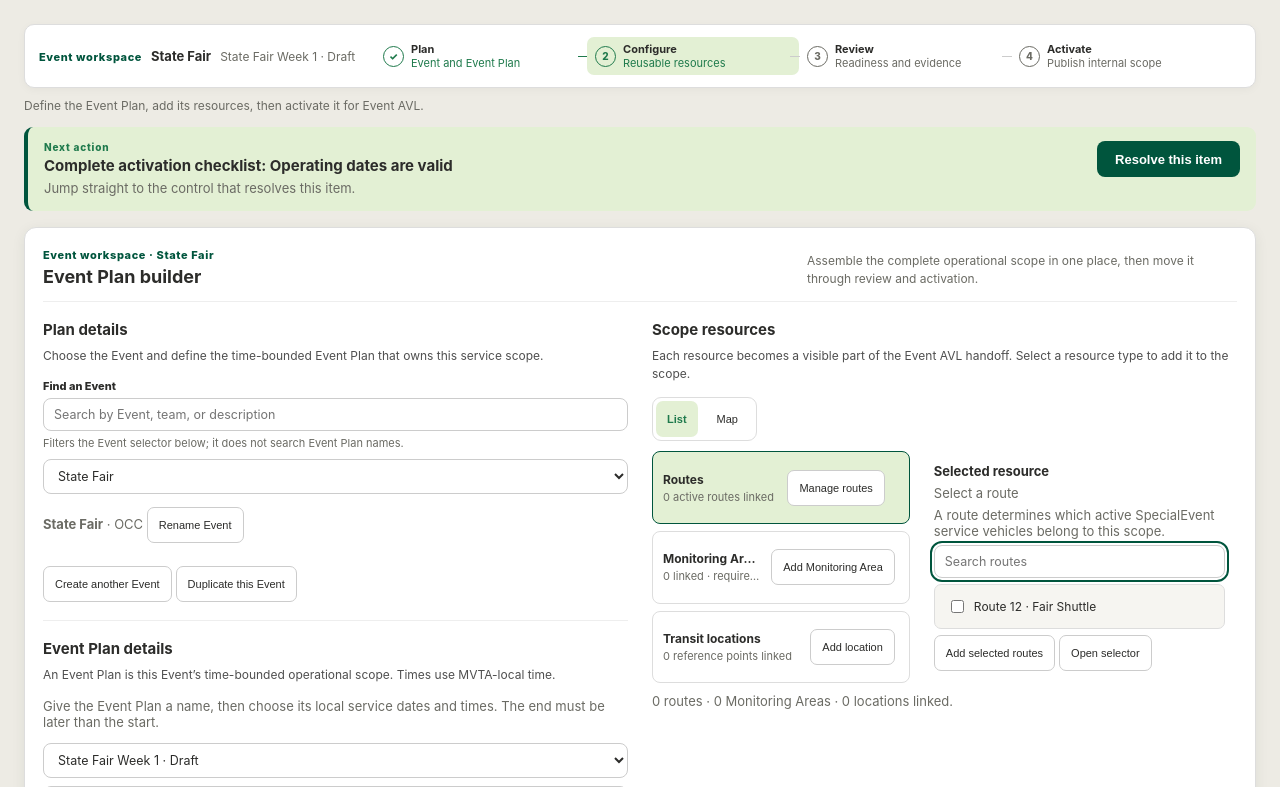
Test: EventPlanning › bulk resource linking › keeps each resource tab's search term independent
Type "shuttle" into the search field labelled "Search routes" at coordinates (1079, 562), box [934, 545, 1225, 578]
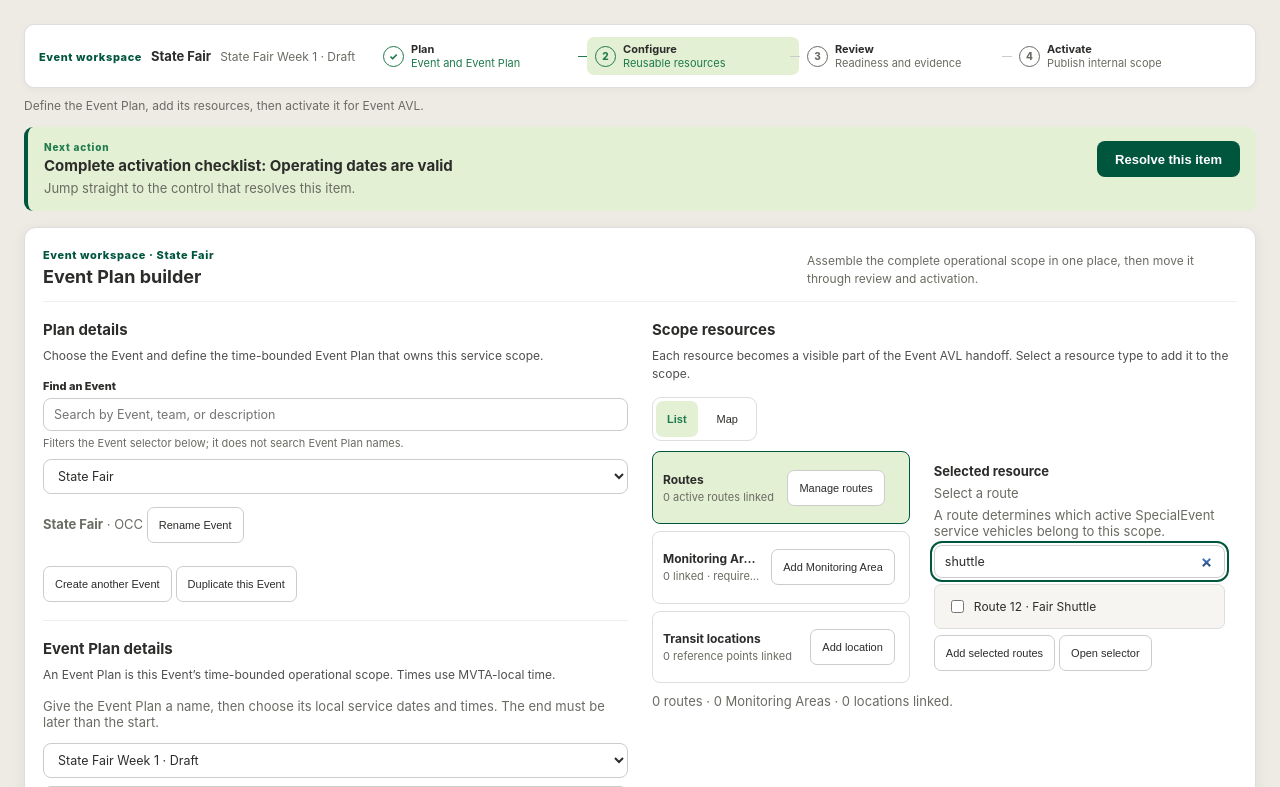
Click the button "Add Monitoring Area" at coordinates (833, 567), box [771, 549, 895, 585]
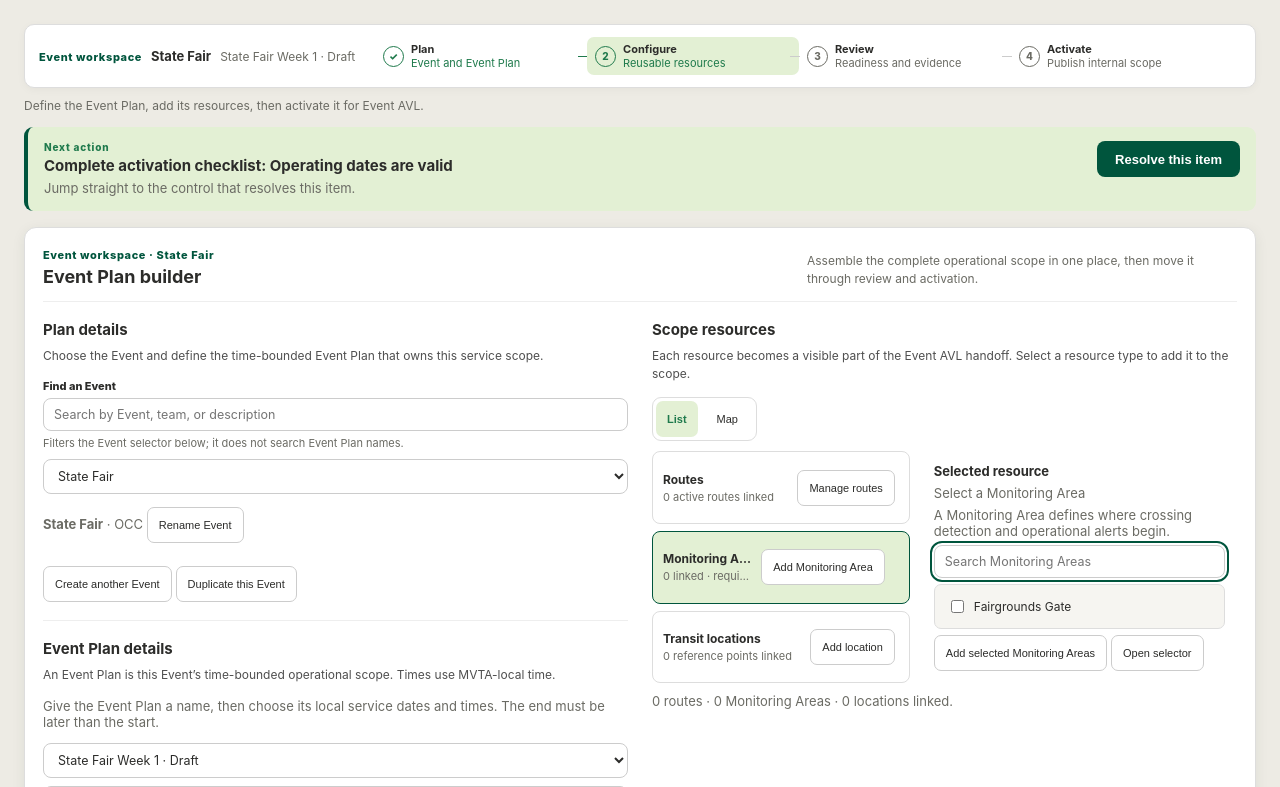
Result: the search field labelled "Search Monitoring Areas" is empty at [934, 545, 1225, 578]
Result: the text "Fairgrounds Gate" is shown at [974, 599, 1071, 614]
